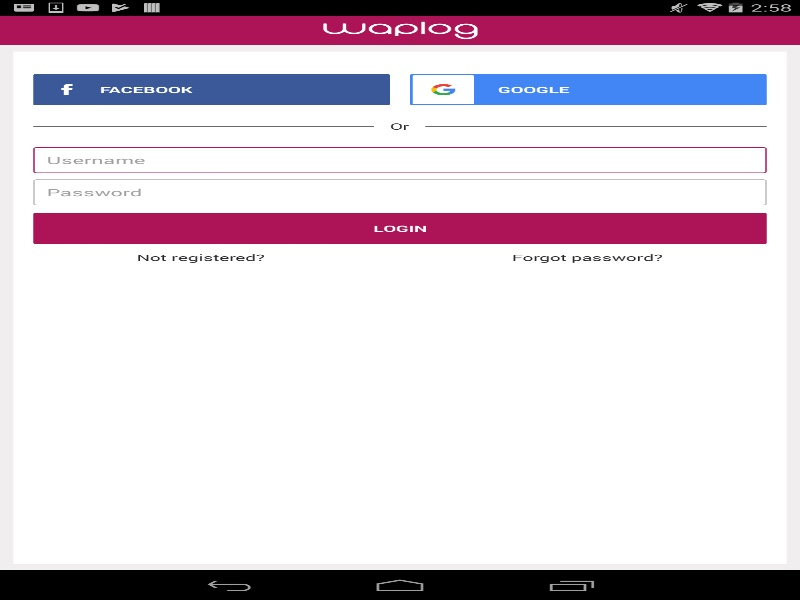Button: (33, 212, 766, 244)
Input: (33, 147, 766, 173), (33, 179, 766, 205)
